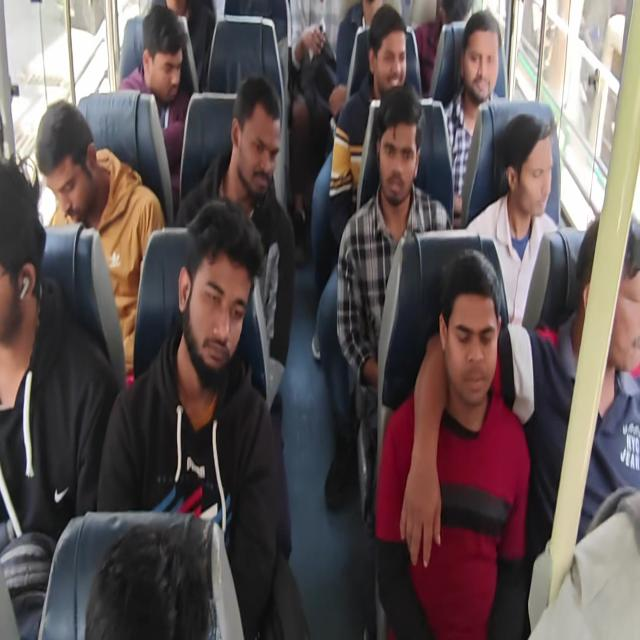person: (93, 525, 222, 640), (576, 224, 640, 377), (182, 222, 238, 378), (0, 162, 41, 344), (37, 111, 95, 219), (442, 281, 492, 403), (375, 98, 424, 209), (504, 125, 554, 228), (231, 91, 276, 204), (142, 16, 181, 100), (371, 22, 407, 98), (462, 27, 493, 100), (438, 0, 472, 41)
